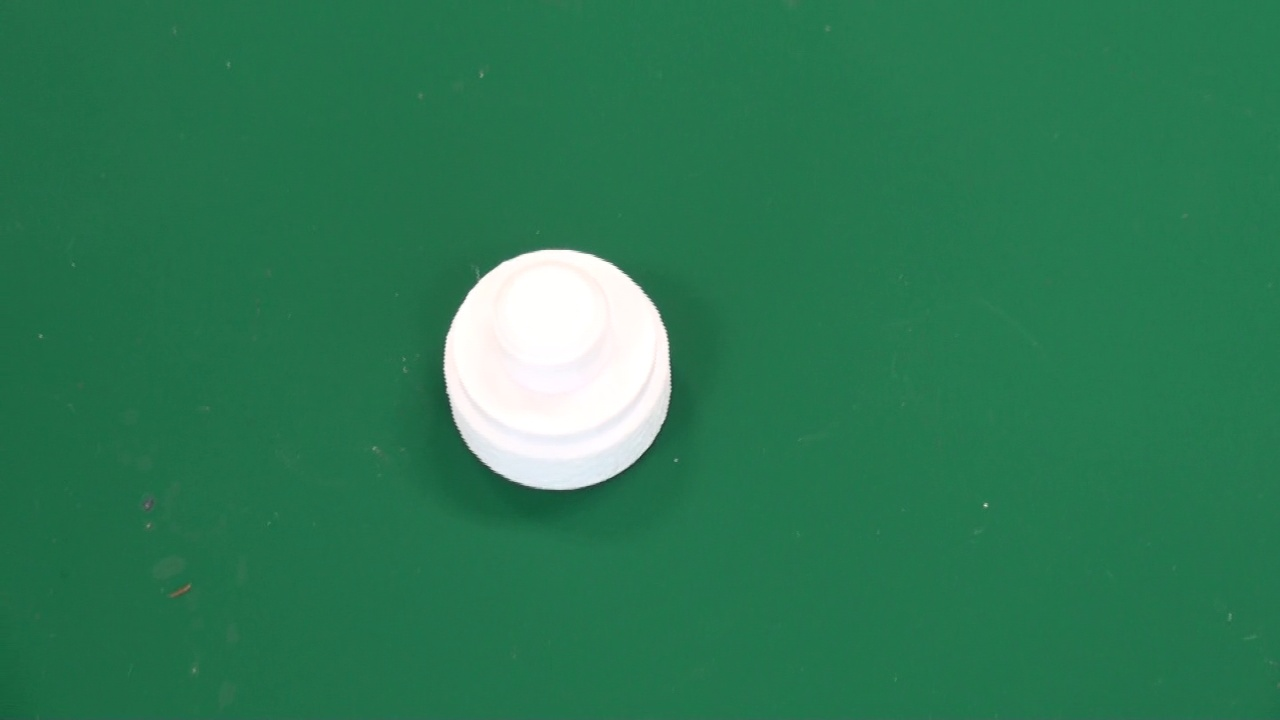breather_plug: (443, 248, 671, 492)
